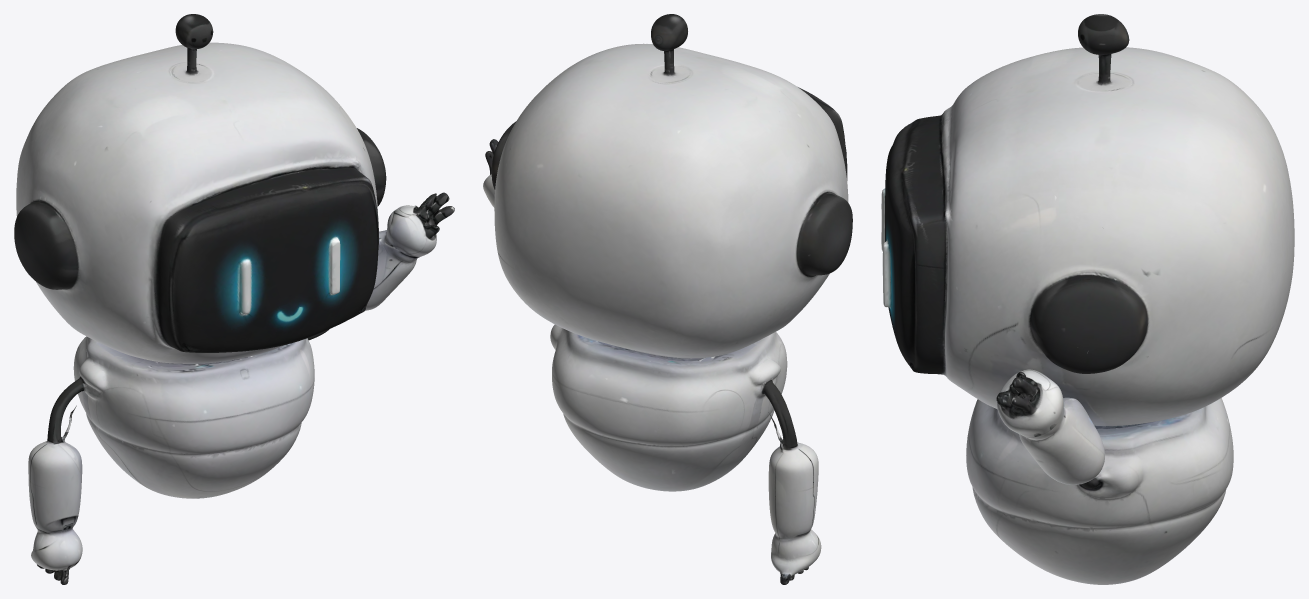
File: robot-waving.glb
3 renders of one model, left to right at view 1: azimuth 30°, elevation 25°; view 2: azimuth 150°, elevation 25°; view 3: azimuth 270°, elevation 25°, orthographic. The views are drawn at different scales.
Visible parts, largest first — view 1: Object_4; view 2: Object_4; view 3: Object_4.
Boxes of the visible parts, x1,y1,x2,y2 form: Object_4: (14,14,454,584); Object_4: (483,14,852,584); Object_4: (881,14,1294,584).
Bounding box in the file's own units: 1.42 × 1.84 × 1.1.
Materials: 1 (1 with a texture image).
